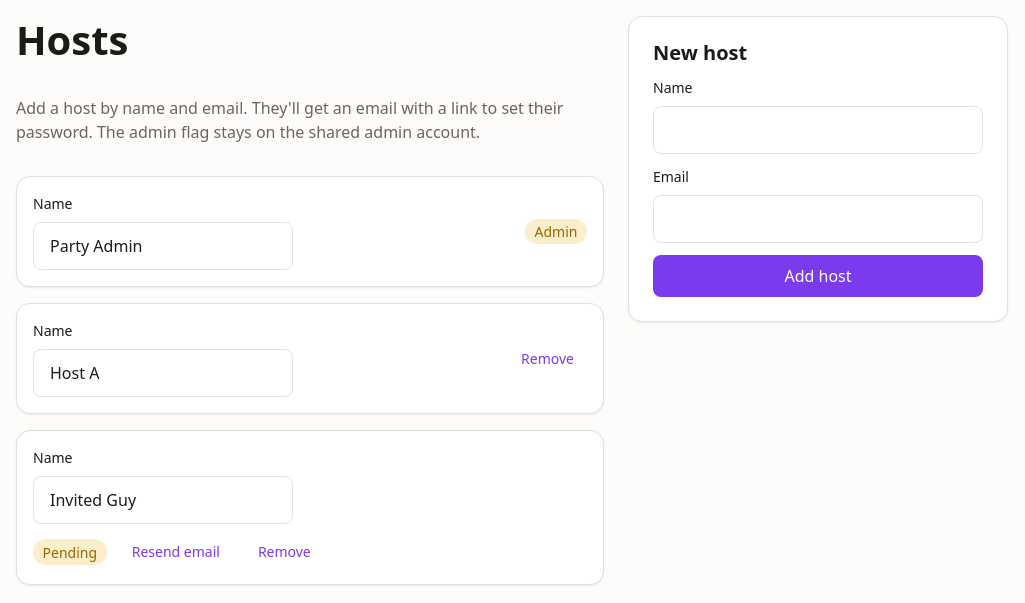
Test: Hosts › pending hosts › surfaces a resend failure
Expected: the 4th field showing "Invited Guy" is shown, [33,476,293,524]
Step 1. Click the button "Resend email" → (176, 552), box [119,536,233,568]
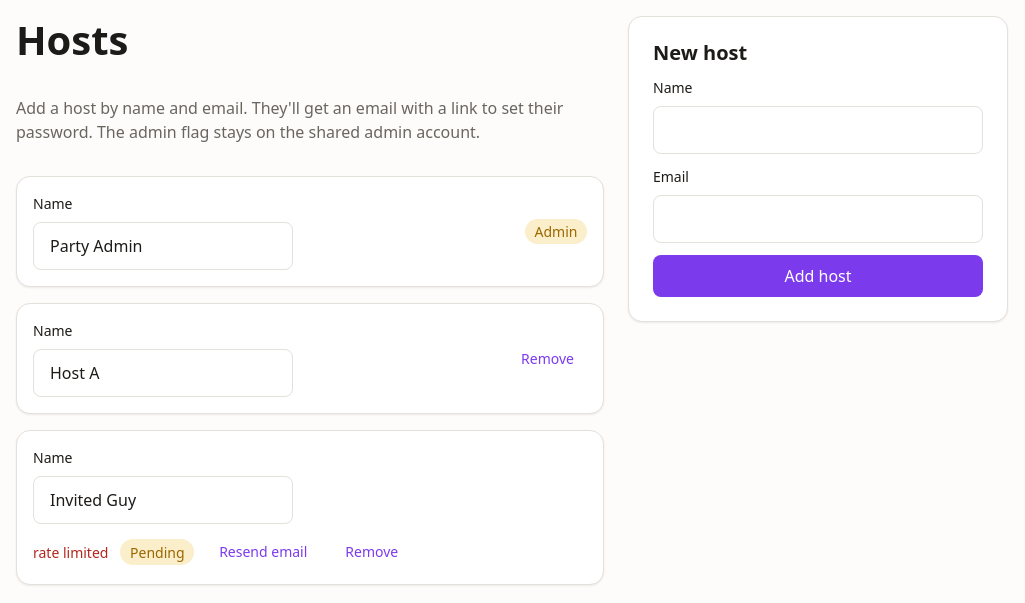
Expected: the text "rate limited" is shown, [33,542,108,562]
